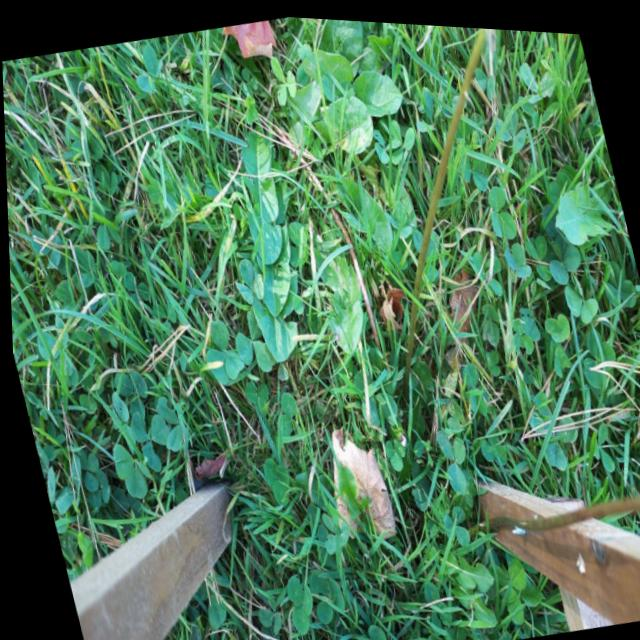base: (361, 324, 391, 367), (452, 503, 481, 547), (389, 354, 417, 395)
